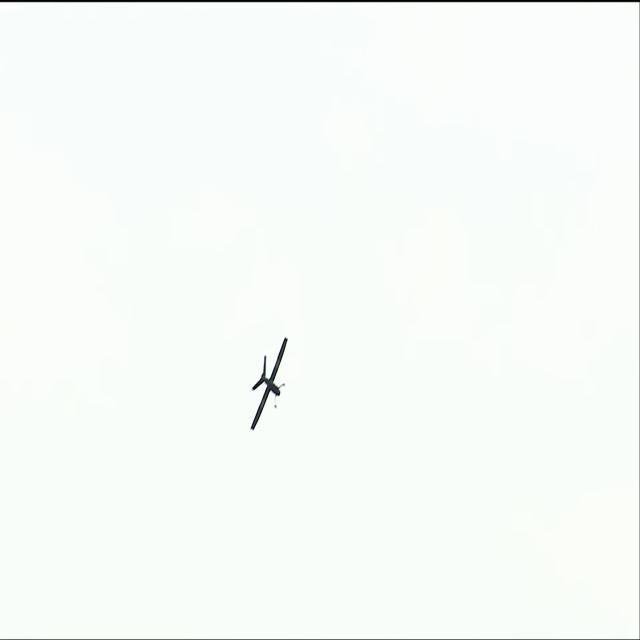iha: (249, 366, 289, 402)
